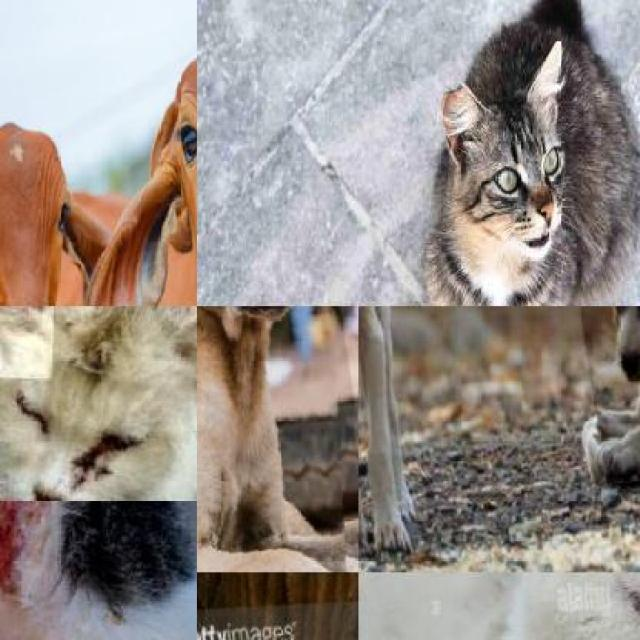cat: (418, 12, 640, 306), (0, 306, 197, 500), (0, 500, 197, 640), (358, 572, 640, 640)
cow: (128, 59, 197, 306), (0, 134, 80, 306), (197, 572, 358, 640)
dog: (197, 306, 358, 572), (358, 306, 469, 556), (564, 306, 640, 497)
injured: (0, 306, 57, 379), (0, 500, 34, 614), (197, 572, 252, 640)
